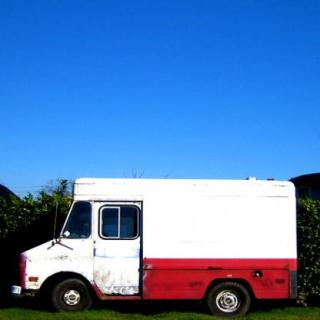Normal_vehicle: (16, 171, 311, 315)
